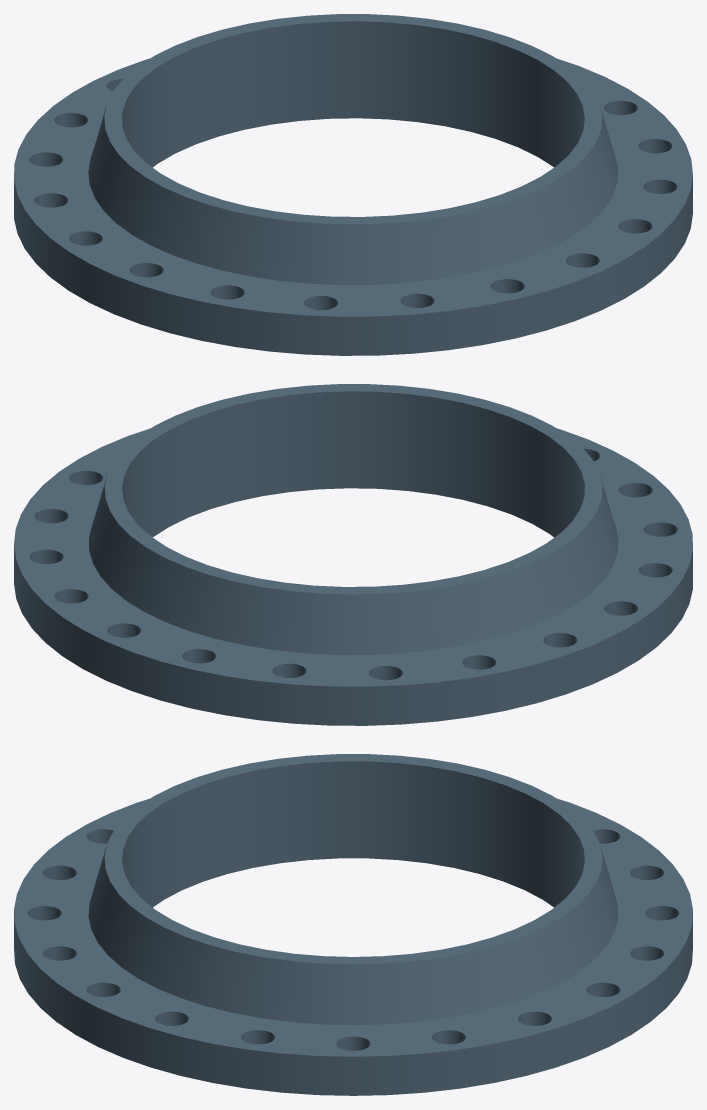
File: flanec-vorotnikovyj-DN450-PN25.glb
3 views of the same model, one above another, from view 1: azimuth 30°, elevation 25°; view 2: azimuth 150°, elevation 25°; view 3: azimuth 270°, elevation 25° (orthographic).
Visible parts, largest first — view 1: Open CASCADE STEP translator 7.9 103; view 2: Open CASCADE STEP translator 7.9 103; view 3: Open CASCADE STEP translator 7.9 103.
Boxes of the visible parts, box(x1,y1,x2,y2) form: Open CASCADE STEP translator 7.9 103: box(14, 14, 692, 355); Open CASCADE STEP translator 7.9 103: box(14, 384, 692, 725); Open CASCADE STEP translator 7.9 103: box(14, 754, 692, 1095).
Size of the model in its own units: 660 by 104 by 660.
